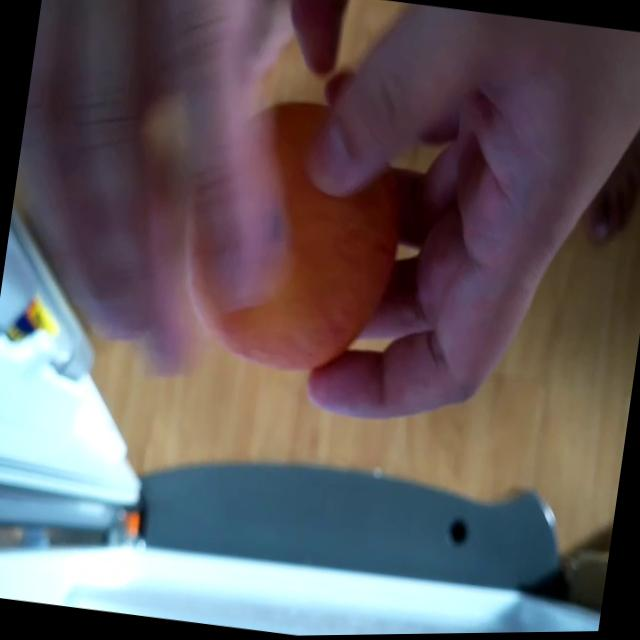apple: (194, 107, 407, 393)
